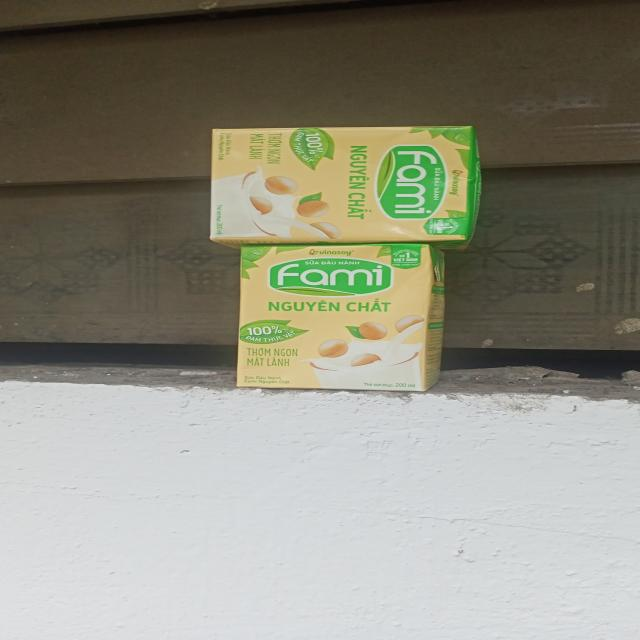Fami: (211, 128, 486, 247), (240, 245, 447, 389)
